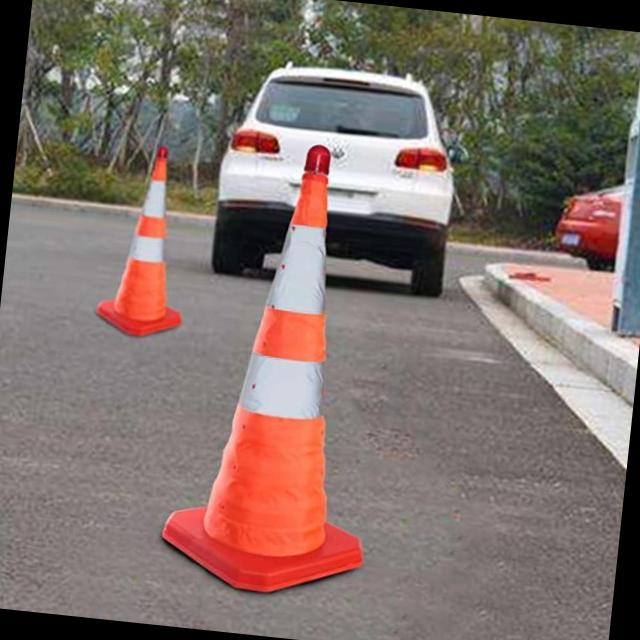Cone: (161, 135, 402, 605), (80, 137, 204, 356)
